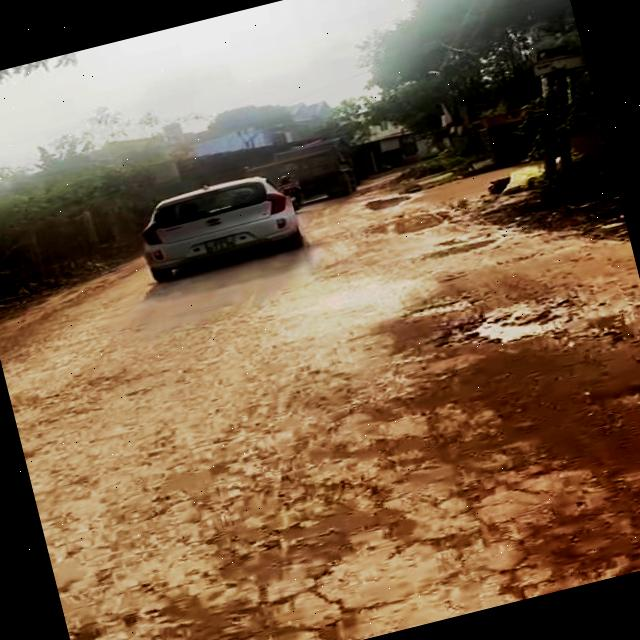pothole: (429, 276, 640, 399), (360, 203, 450, 246), (414, 224, 502, 267), (361, 186, 421, 218)
